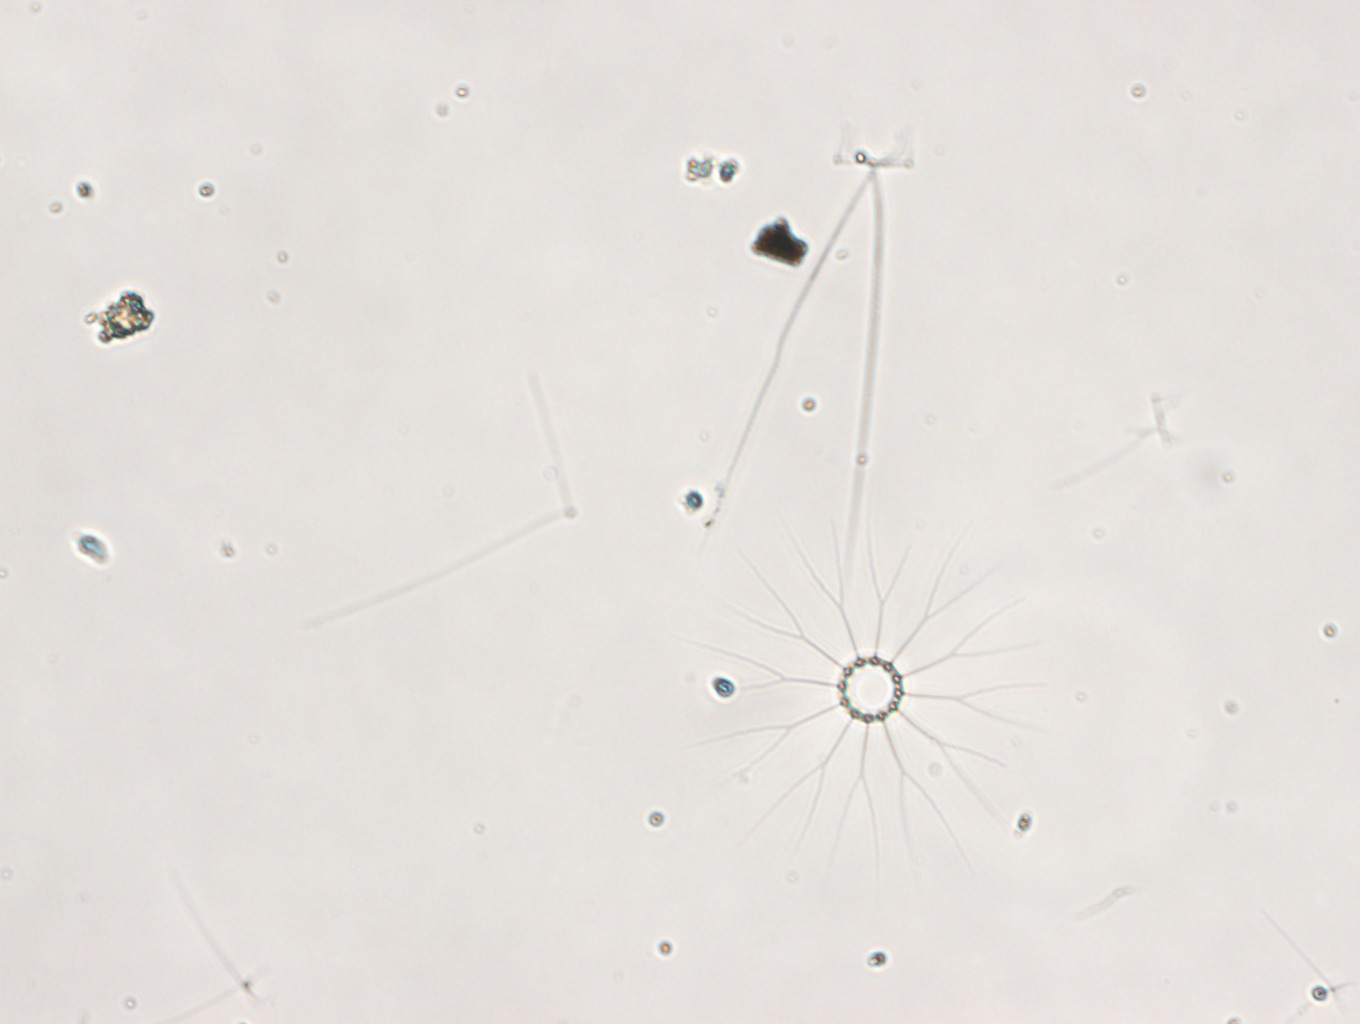bacteriastrum: (690, 511, 1060, 884)
chaetoceros: (691, 114, 918, 583)
